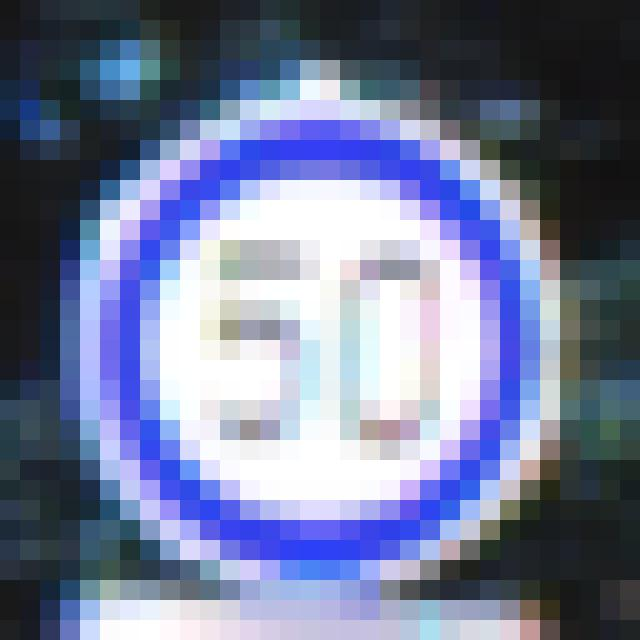SPEED LIMIT 50: (128, 142, 536, 550)
